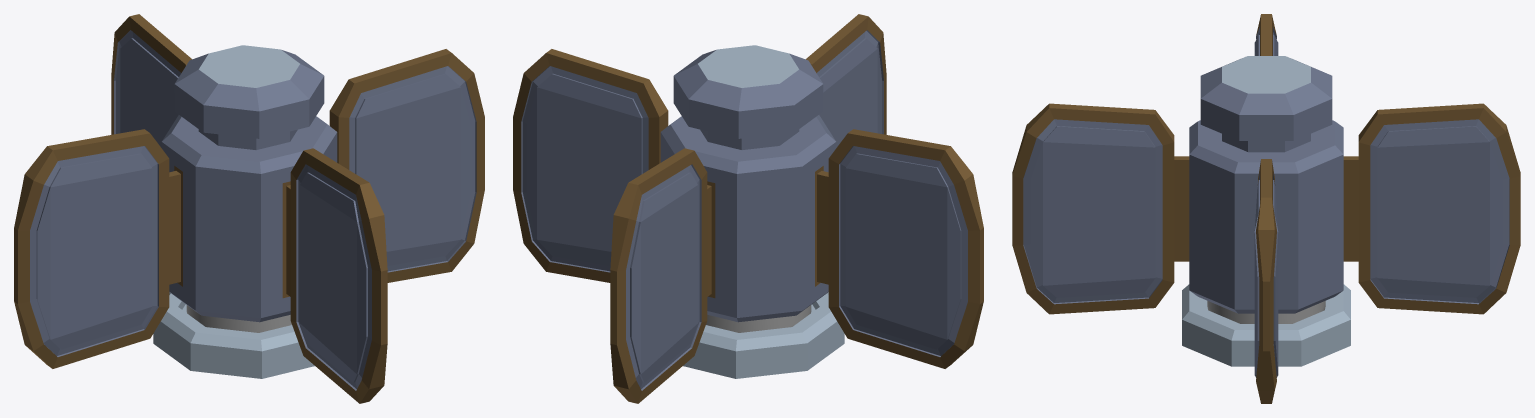
Rendered from 风力机关.fbx.
3 renders of one model, left to right at view 1: azimuth 30°, elevation 25°; view 2: azimuth 150°, elevation 25°; view 3: azimuth 270°, elevation 25°, orthographic. The views are drawn at different scales.
Parts seen in each view (by area): view 1: Cylinder.077, Cylinder.079, Cylinder.078; view 2: Cylinder.077, Cylinder.079, Cylinder.078; view 3: Cylinder.077, Cylinder.079, Cylinder.078.
Part boxes in pixels (x1,y1,x2,y2): Cylinder.077: (14, 14, 484, 403); Cylinder.079: (153, 292, 314, 378); Cylinder.078: (186, 305, 291, 332); Cylinder.077: (513, 14, 983, 403); Cylinder.079: (683, 292, 844, 378); Cylinder.078: (706, 305, 811, 332); Cylinder.077: (1012, 14, 1520, 403); Cylinder.079: (1182, 284, 1350, 366); Cylinder.078: (1207, 301, 1325, 323).
Size of the model in its own units: 171 by 95.18 by 171.
